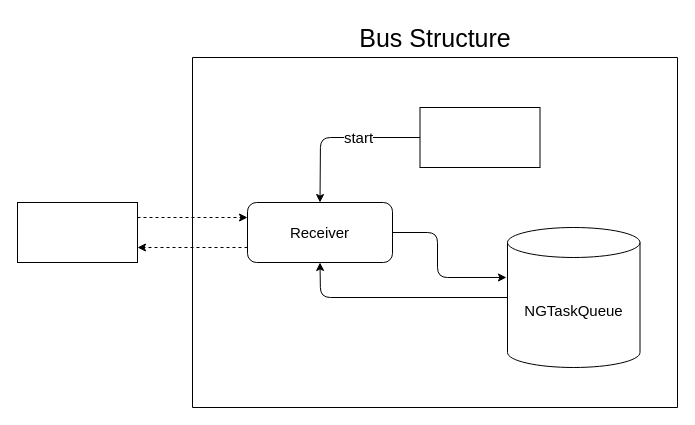
Image size: 695x425. Some labels were removed from this diagram. Here are the shapes that lost their labels. From the top down, the box of each, then its label:
(419, 106, 540, 168): Main
(16, 202, 138, 262): BusHub
